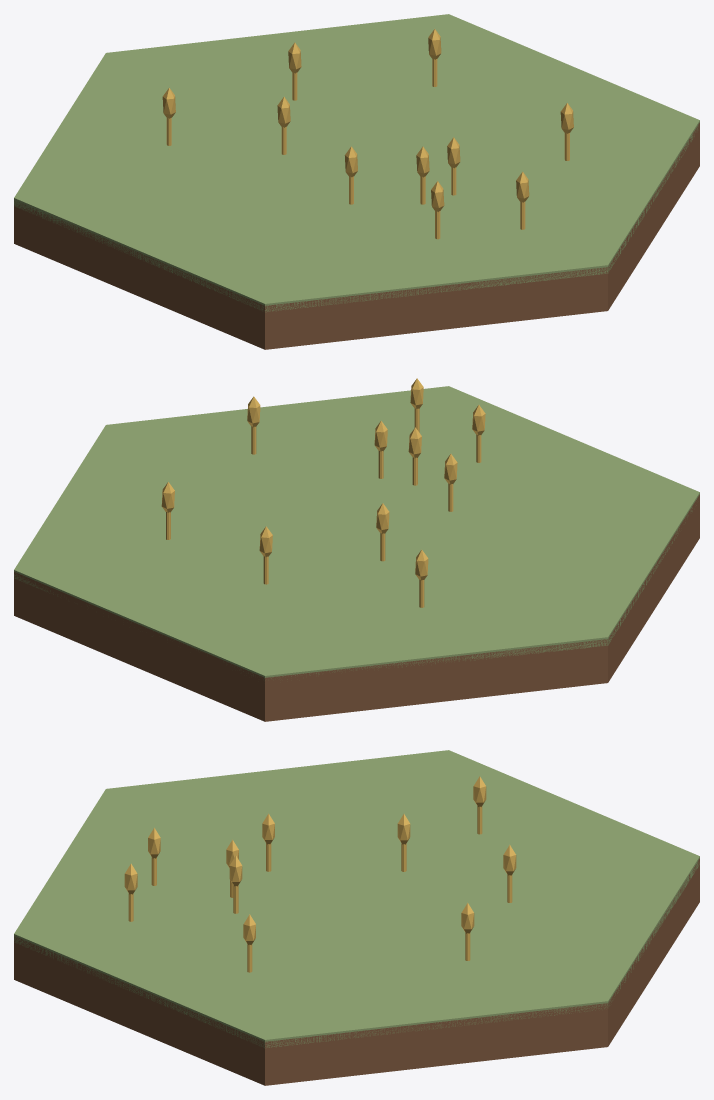
The model's file is barleyMeadow.glb.
The picture shows the model from 3 angles, top to bottom: view 1: azimuth 30°, elevation 25°; view 2: azimuth 150°, elevation 25°; view 3: azimuth 270°, elevation 25°; orthographic projection.
Parts seen in each view (by area): view 1: Cone.003, Cone.002; view 2: Cone.003, Cone.002; view 3: Cone.003, Cone.002.
Boxes of the visible parts, left/top/right/bottom form: Cone.003: left=14, top=14, right=699, bottom=312; Cone.002: left=14, top=122, right=699, bottom=349; Cone.003: left=14, top=386, right=699, bottom=679; Cone.002: left=14, top=494, right=699, bottom=721; Cone.003: left=14, top=750, right=699, bottom=1048; Cone.002: left=14, top=858, right=699, bottom=1085.
Bounding box in the file's own units: 3.67 × 0.61 × 3.67.
